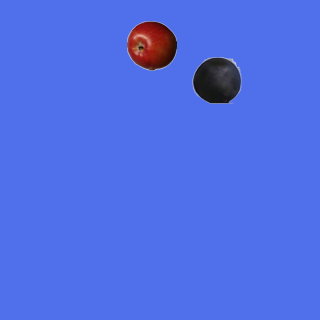Apple Braeburn: (126, 20, 176, 70)
Grape Blue: (191, 54, 241, 104)
